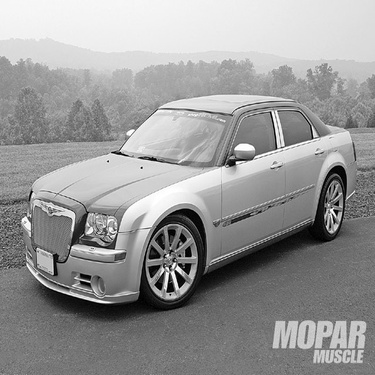car: (17, 88, 367, 320)
